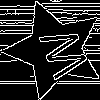W: (30, 24, 91, 84)
